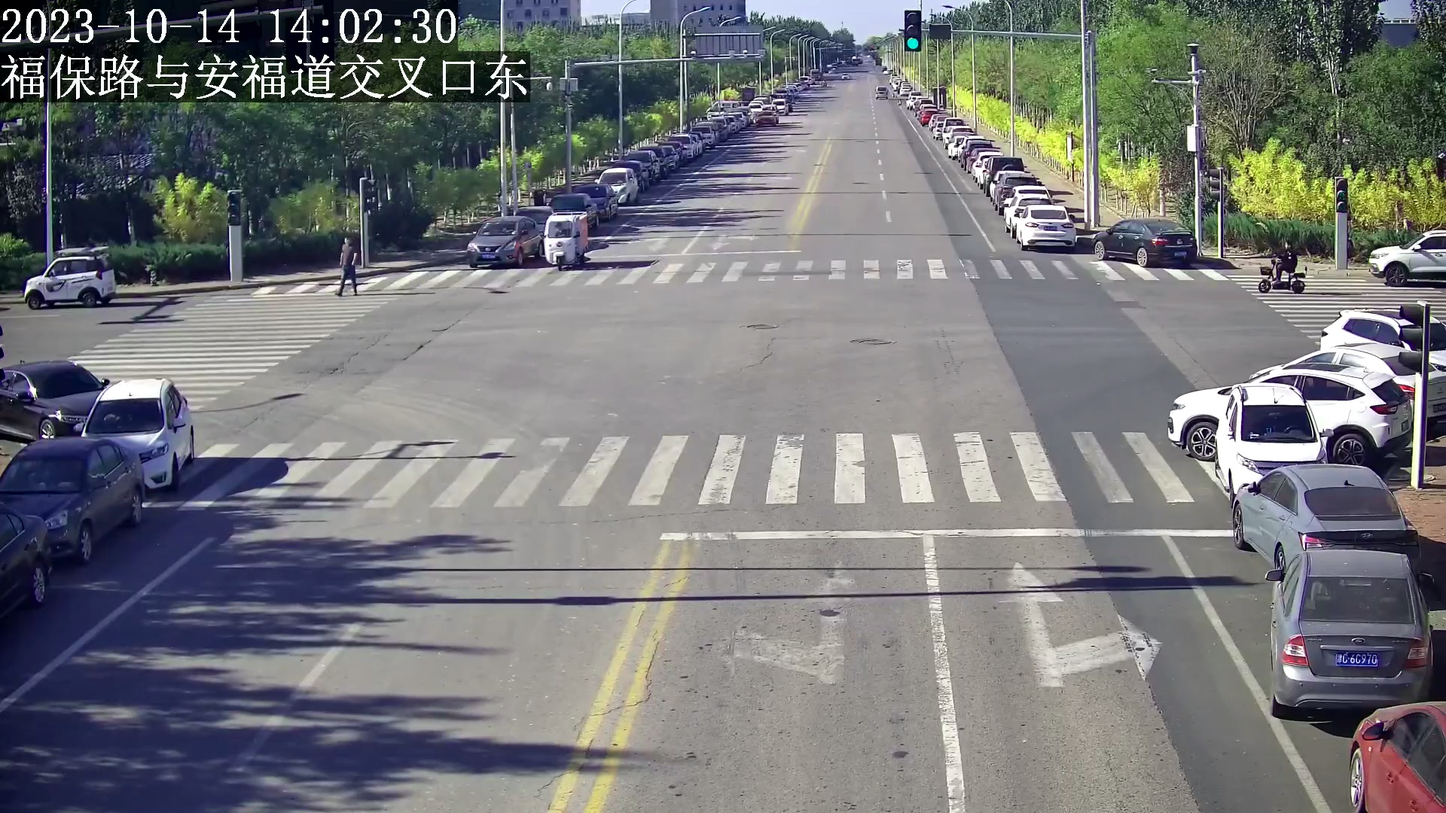person: (337, 236, 361, 294), (1277, 238, 1295, 282)
vehicle: (1264, 548, 1427, 711), (1168, 366, 1411, 461), (1228, 463, 1414, 560), (1, 437, 147, 559), (83, 376, 197, 489), (1216, 382, 1332, 489), (1344, 699, 1444, 813), (2, 356, 102, 437), (19, 244, 118, 304), (1093, 217, 1197, 266), (1369, 227, 1446, 281), (465, 216, 543, 266), (1013, 203, 1077, 249), (543, 211, 590, 269), (1257, 262, 1307, 295)
